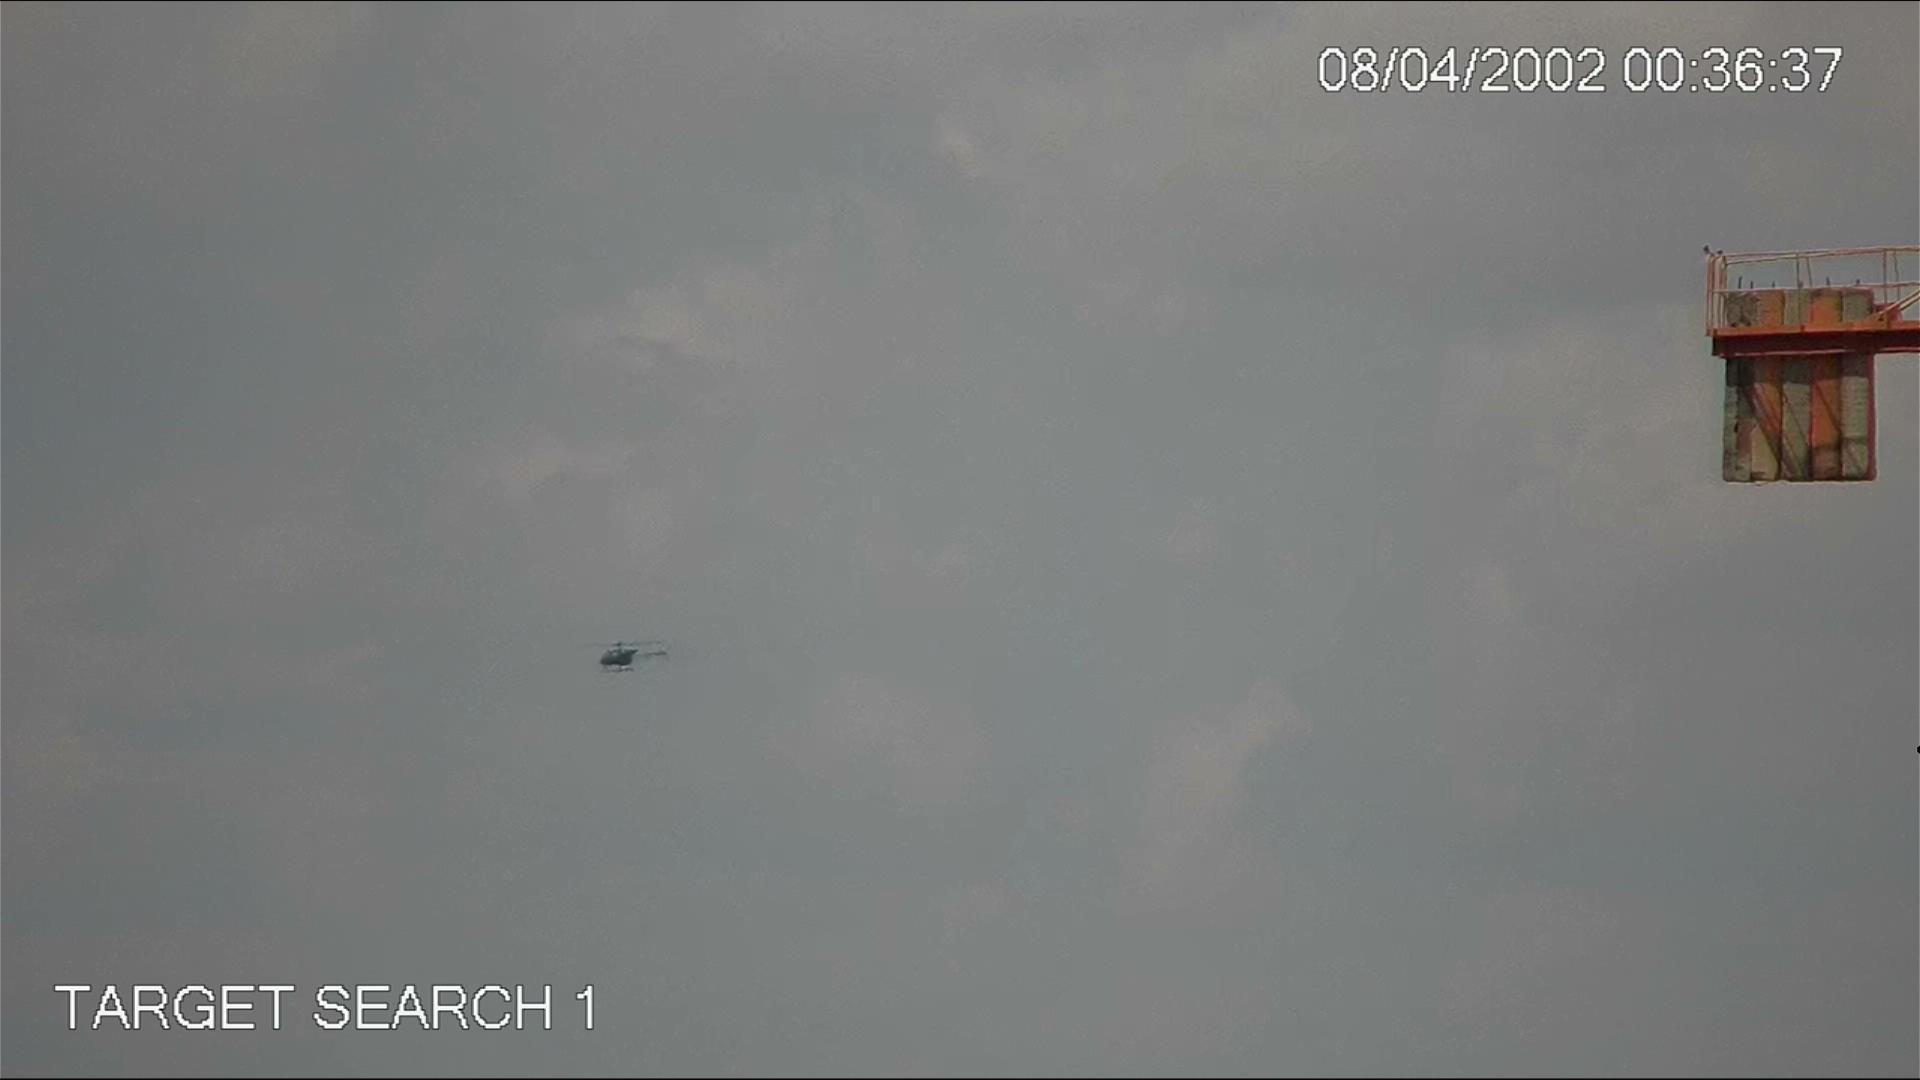SU_30: (591, 640, 678, 673)
